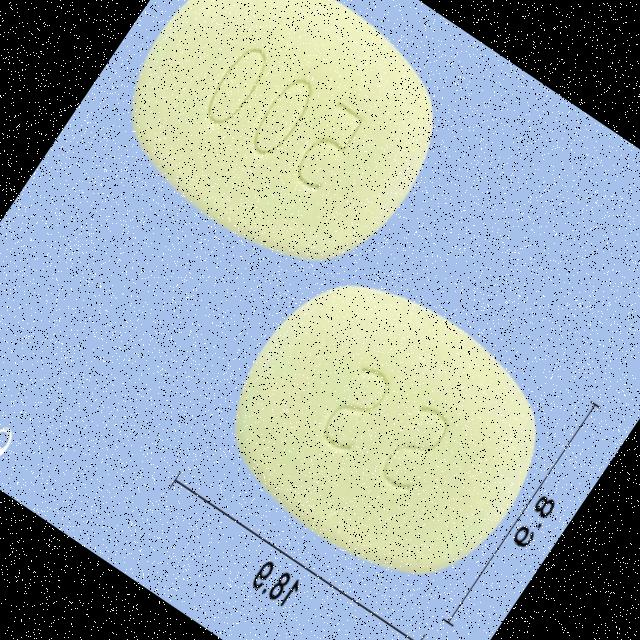Samsung Clarithromycin Tab-500mg: (190, 240, 580, 618), (90, 0, 475, 299)
